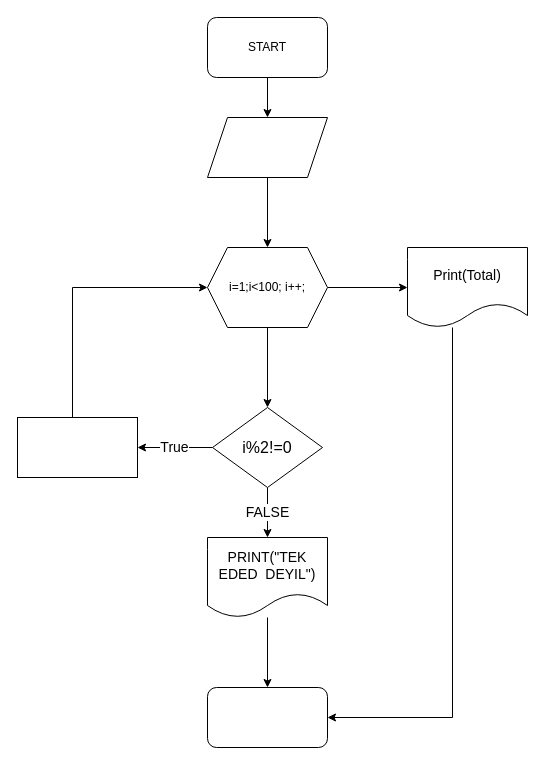
This 545x765 diagram has some shape labels left out. Here are the shapes that lost their labels. From the top down, the centre of each, then its label:
pixel 267 147: i,Total
pixel 77 447: Total=i+2
pixel 267 717: END
